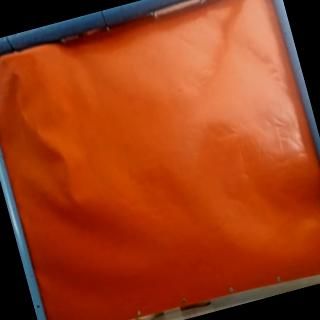Hit-hRxx: (6, 64, 22, 78)
